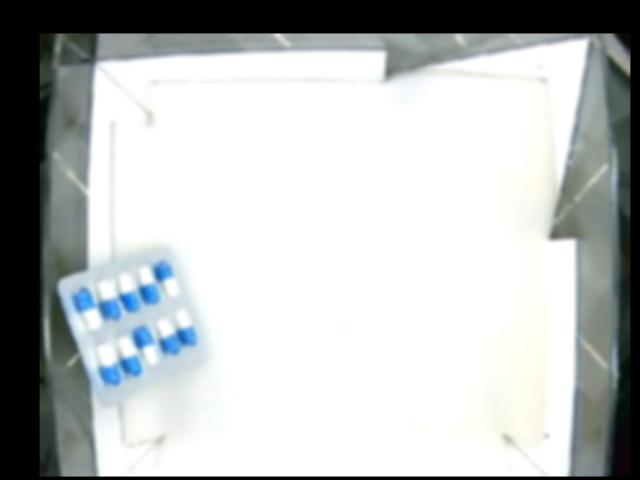Medicine: (57, 244, 206, 406)
